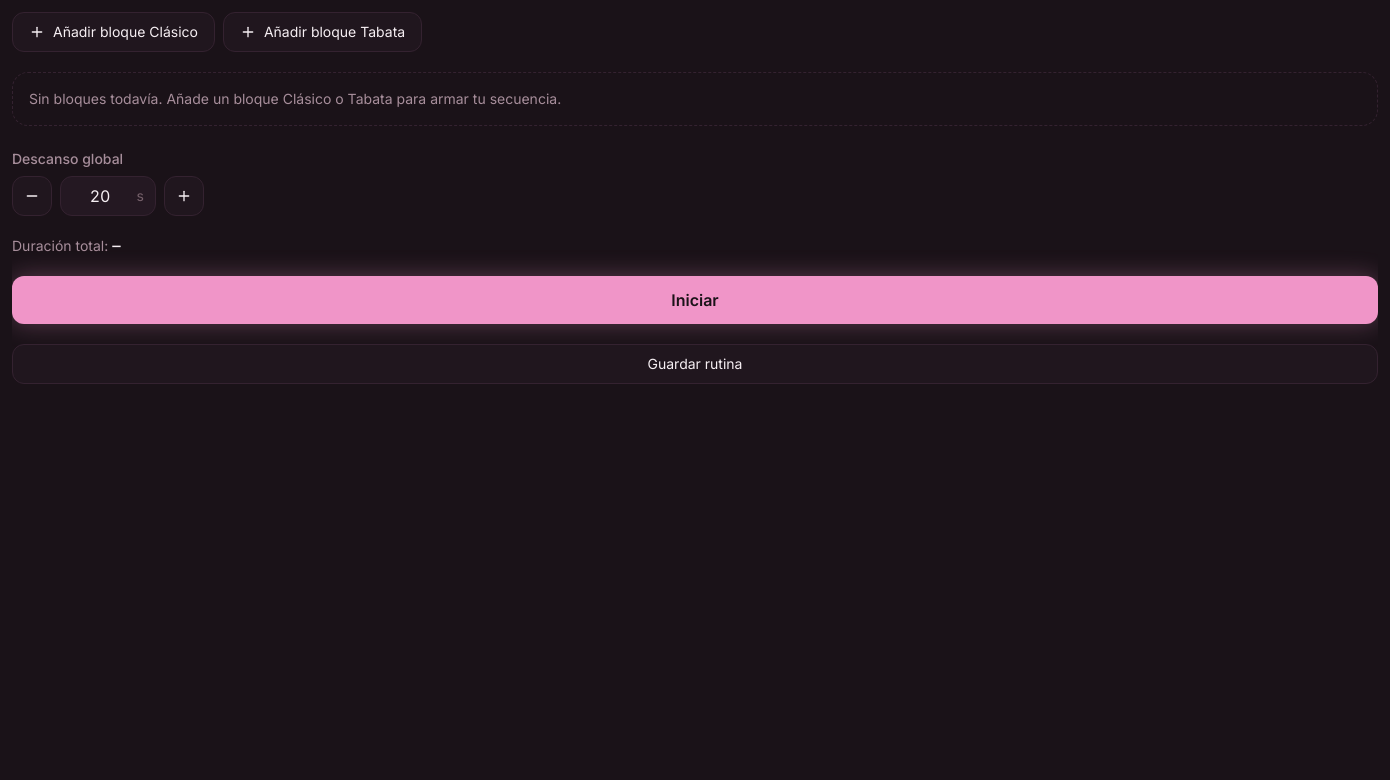
Test: PersonalizadoBuilder — validación (spec builder) › un campo de bloque inválido burbujea con mensaje español y bloquea el inicio
The width and height of the screenshot is (1390, 780).
Click the button "Añadir bloque Clásico" at [113, 32], box [12,12,215,52]
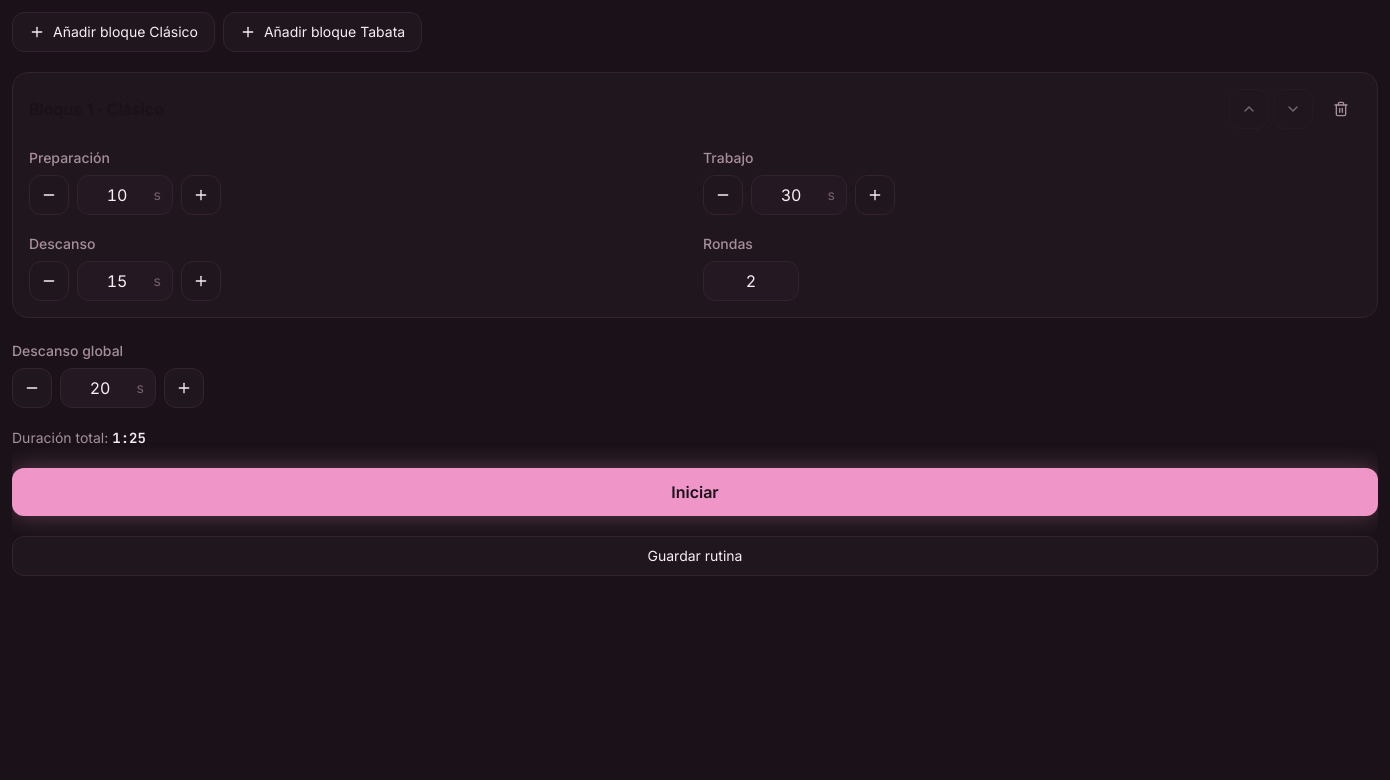
Replace the text in the field labelled "Trabajo" with "0" at [799, 195], box [751,175,847,215]
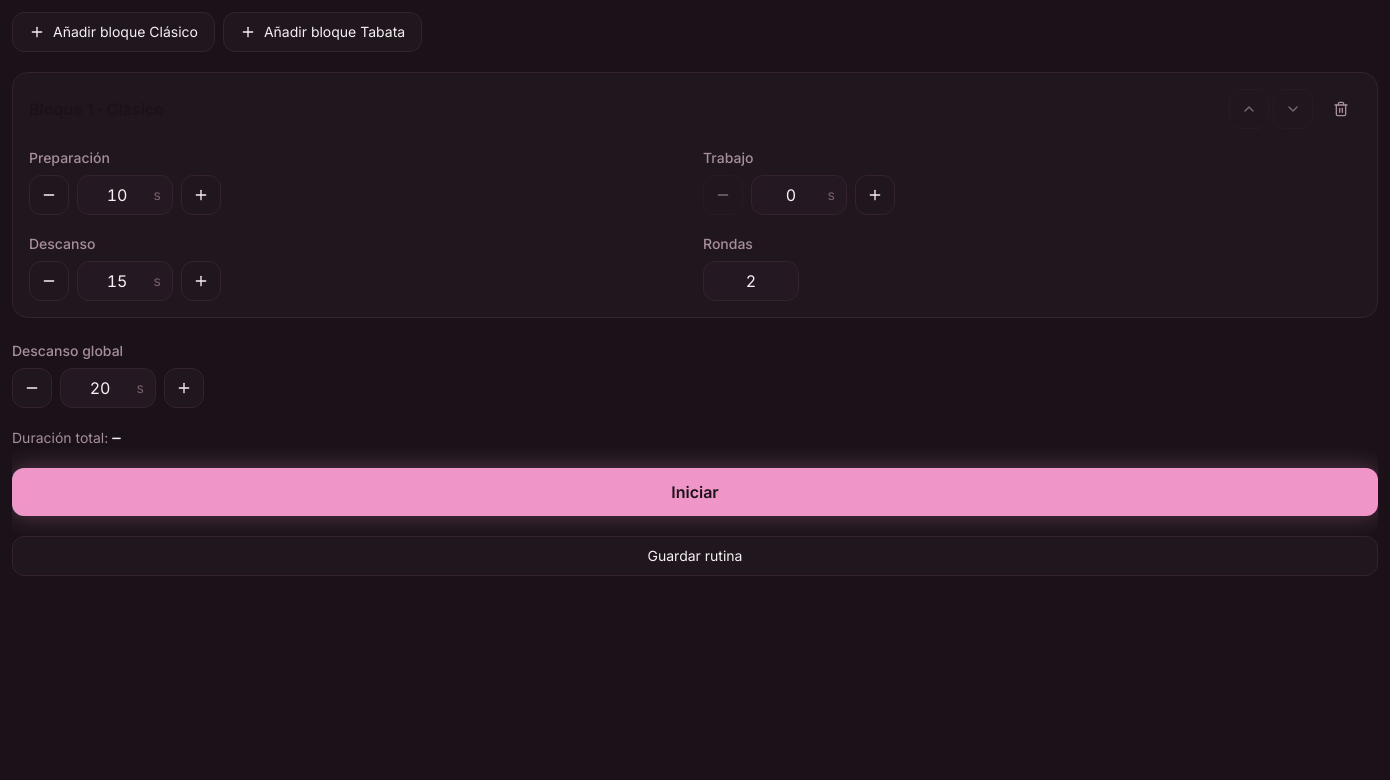
Click the button "Iniciar" at [695, 492], box [12,468,1378,516]
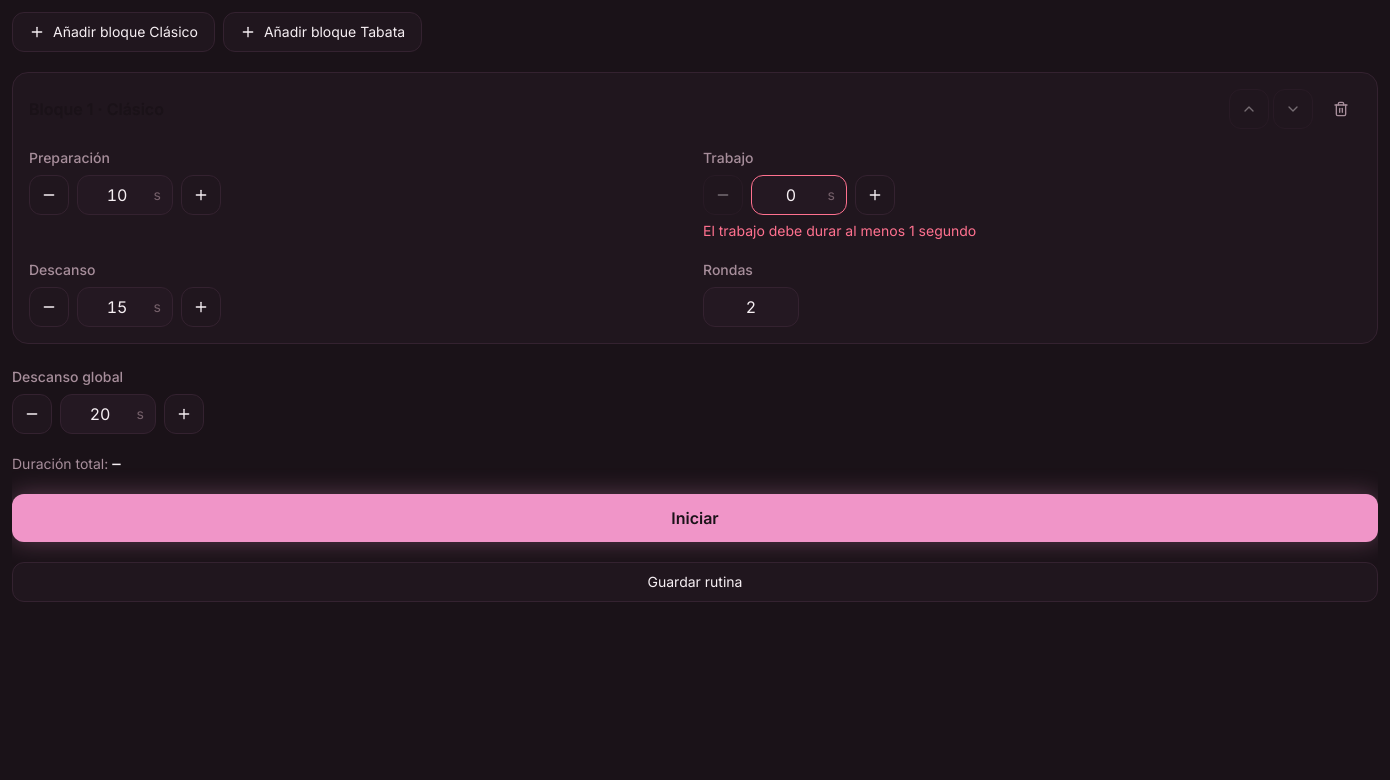
Expected: the text "El trabajo debe durar al menos 1 segundo" is shown, [703,222,976,239]
